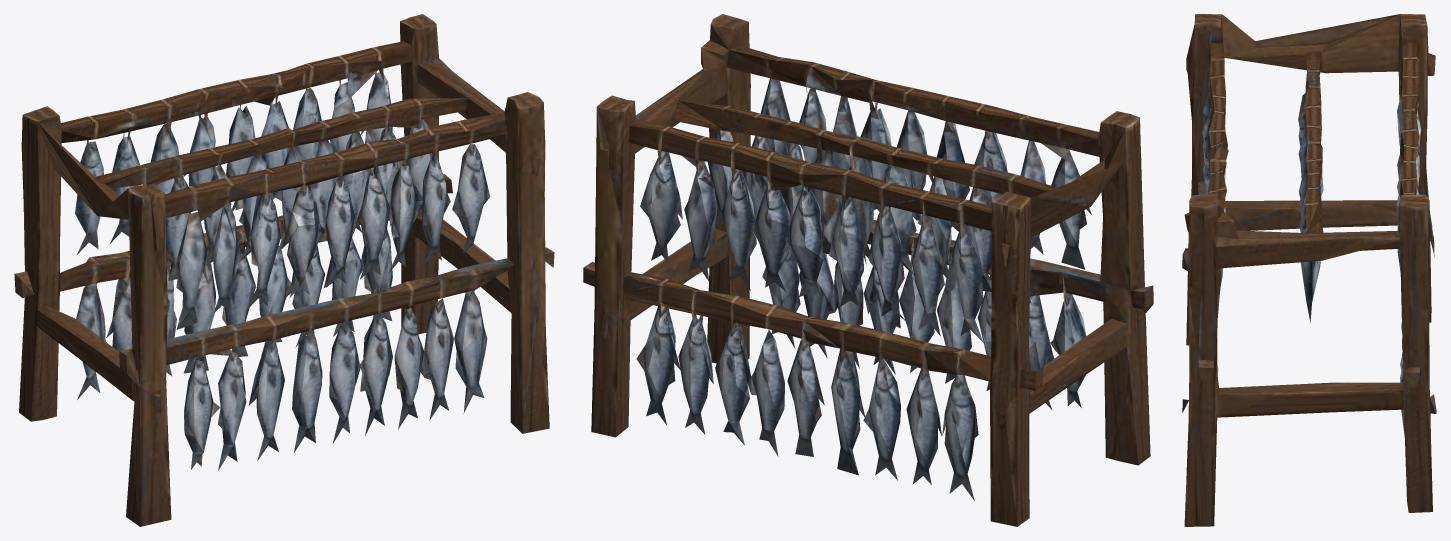
The model's file is fish_rack_3d.glb.
3 views of the same model, side by side, from view 1: azimuth 30°, elevation 25°; view 2: azimuth 150°, elevation 25°; view 3: azimuth 270°, elevation 25° (orthographic). The views are drawn at different scales.
Parts seen in each view (by area): view 1: Mesh_0; view 2: Mesh_0; view 3: Mesh_0.
Part boxes in pixels (<box>): Mesh_0: <box>14,14,554,526</box>; Mesh_0: <box>583,14,1153,526</box>; Mesh_0: <box>1182,14,1436,526</box>.
Size of the model in its own units: 1.9 by 1.38 by 0.9876.
1 material, 1 textured.
